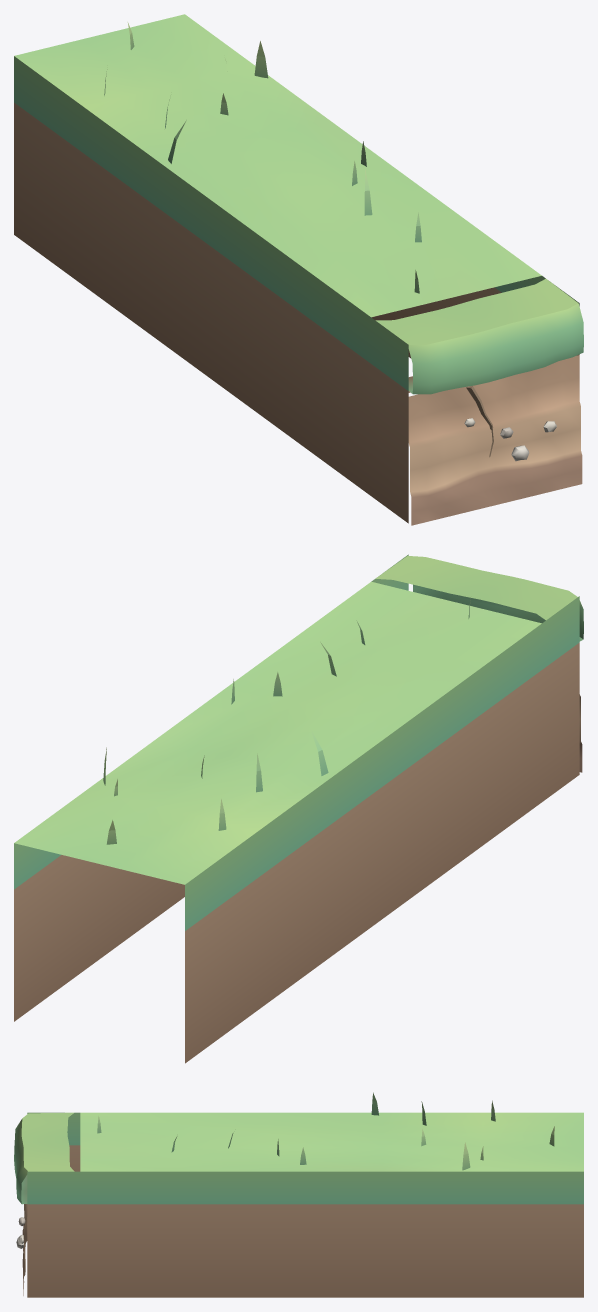
Rendered from ground_grass_3.glb.
3 renders of one model, top to bottom at view 1: azimuth 30°, elevation 25°; view 2: azimuth 150°, elevation 25°; view 3: azimuth 270°, elevation 25°, orthographic. The views are drawn at different scales.
Visible parts, largest first — view 1: ground_grass_3; view 2: ground_grass_3; view 3: ground_grass_3.
Part boxes in pixels (box(x1,y1,x2,y2)): ground_grass_3: box(14, 14, 583, 525); ground_grass_3: box(14, 554, 583, 1063); ground_grass_3: box(14, 1092, 583, 1297).
Size of the model in its own units: 1 by 1.23 by 4.1.
